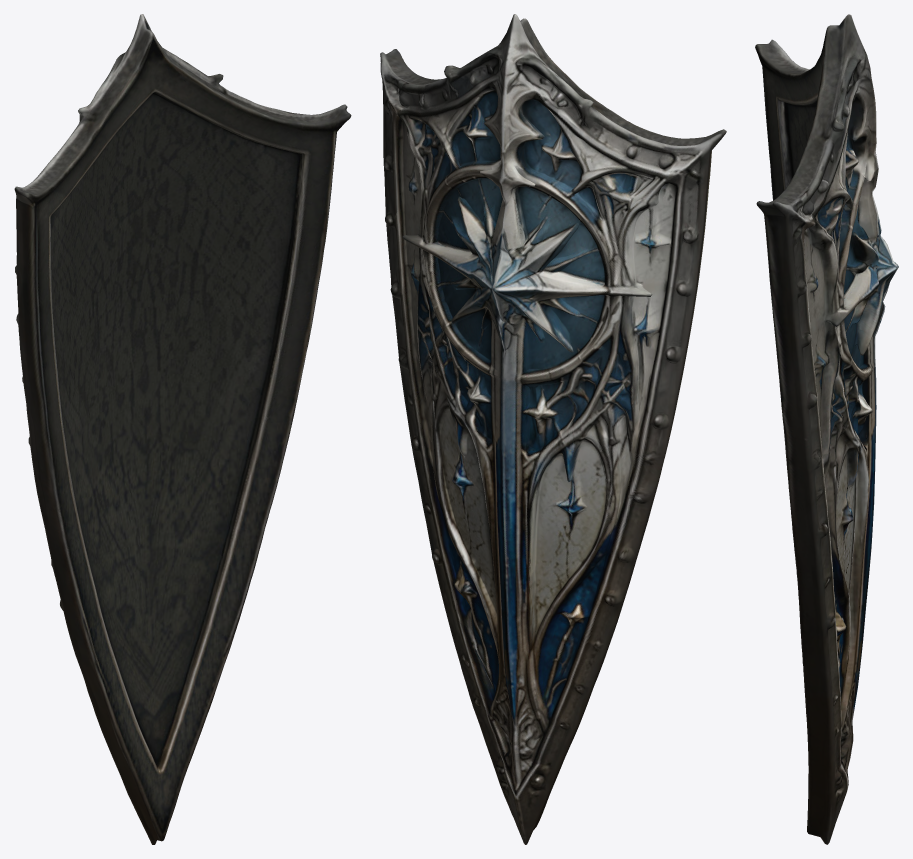
File: kite_northstar.glb
3 renders of one model, left to right at view 1: azimuth 30°, elevation 25°; view 2: azimuth 150°, elevation 25°; view 3: azimuth 270°, elevation 25°, orthographic.
Parts seen in each view (by area): view 1: kite_northstar; view 2: kite_northstar; view 3: kite_northstar.
Boxes of the visible parts, x1=… form: kite_northstar: x1=14, y1=14, x2=351, y2=844; kite_northstar: x1=380, y1=14, x2=726, y2=844; kite_northstar: x1=755, y1=14, x2=898, y2=844.
Bounding box in the file's own units: 0.3741 × 0.8821 × 0.1386.
1 material, 1 textured.
